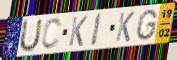C: (40, 17, 63, 51)
G: (134, 8, 159, 42)
I: (90, 12, 103, 48)
K: (67, 15, 89, 48), (115, 11, 136, 44)
U: (17, 17, 44, 54)
